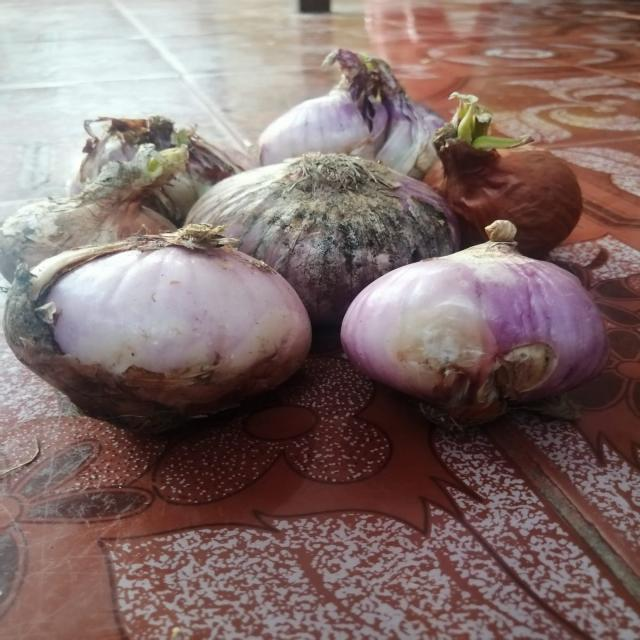rotten: (406, 332, 552, 411), (4, 284, 100, 392), (280, 214, 434, 261), (137, 124, 226, 174)
sprouting: (451, 96, 534, 154), (320, 47, 400, 96), (92, 152, 181, 190)
